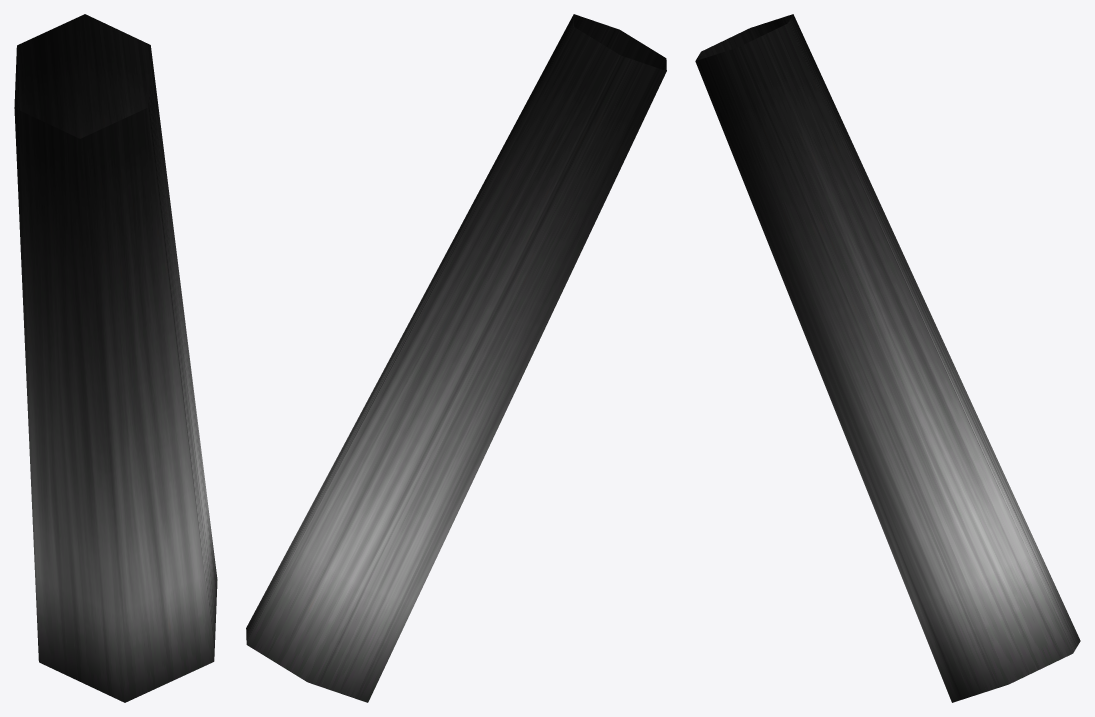
File: chestLightshaft.fbx
3 views of the same model, side by side, from view 1: azimuth 30°, elevation 25°; view 2: azimuth 150°, elevation 25°; view 3: azimuth 270°, elevation 25° (orthographic). The views are drawn at different scales.
Parts seen in each view (by area): view 1: chestLightshaft; view 2: chestLightshaft; view 3: chestLightshaft.
Boxes of the visible parts, bbox=[...] form: chestLightshaft: bbox=[14, 14, 217, 702]; chestLightshaft: bbox=[246, 14, 666, 702]; chestLightshaft: bbox=[695, 14, 1080, 702].
Size of the model in its own units: 5.83 by 12.04 by 6.89.
